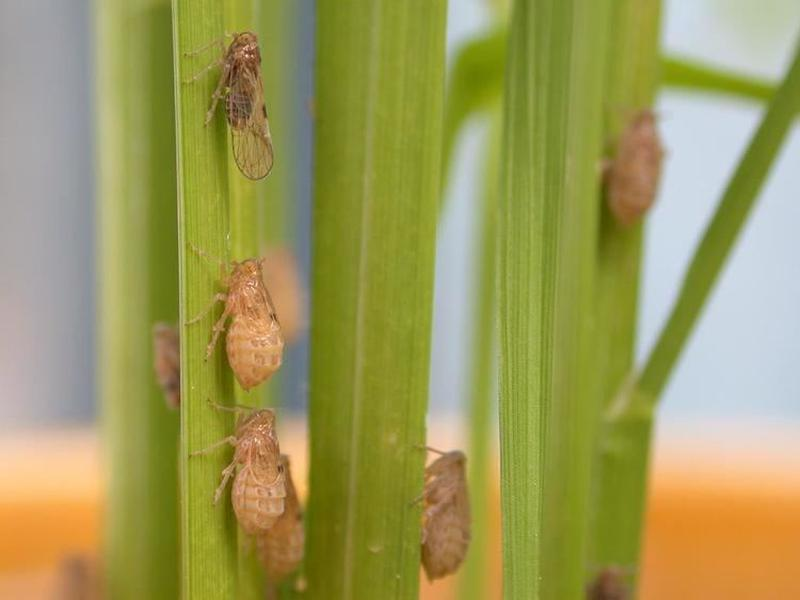White_backed_plant_hopper: (197, 27, 299, 190), (195, 254, 296, 401), (399, 442, 485, 585), (226, 408, 297, 541)
